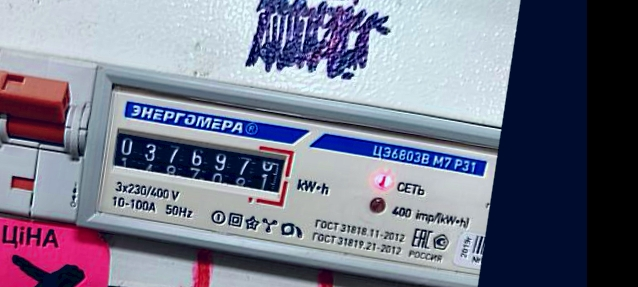0: (119, 136, 135, 157)
1: (257, 171, 271, 191)
3: (142, 141, 158, 163)
6: (189, 145, 205, 168)
7: (165, 142, 181, 165), (236, 154, 251, 178)
9: (213, 151, 228, 173)
screen: (102, 119, 299, 209)
